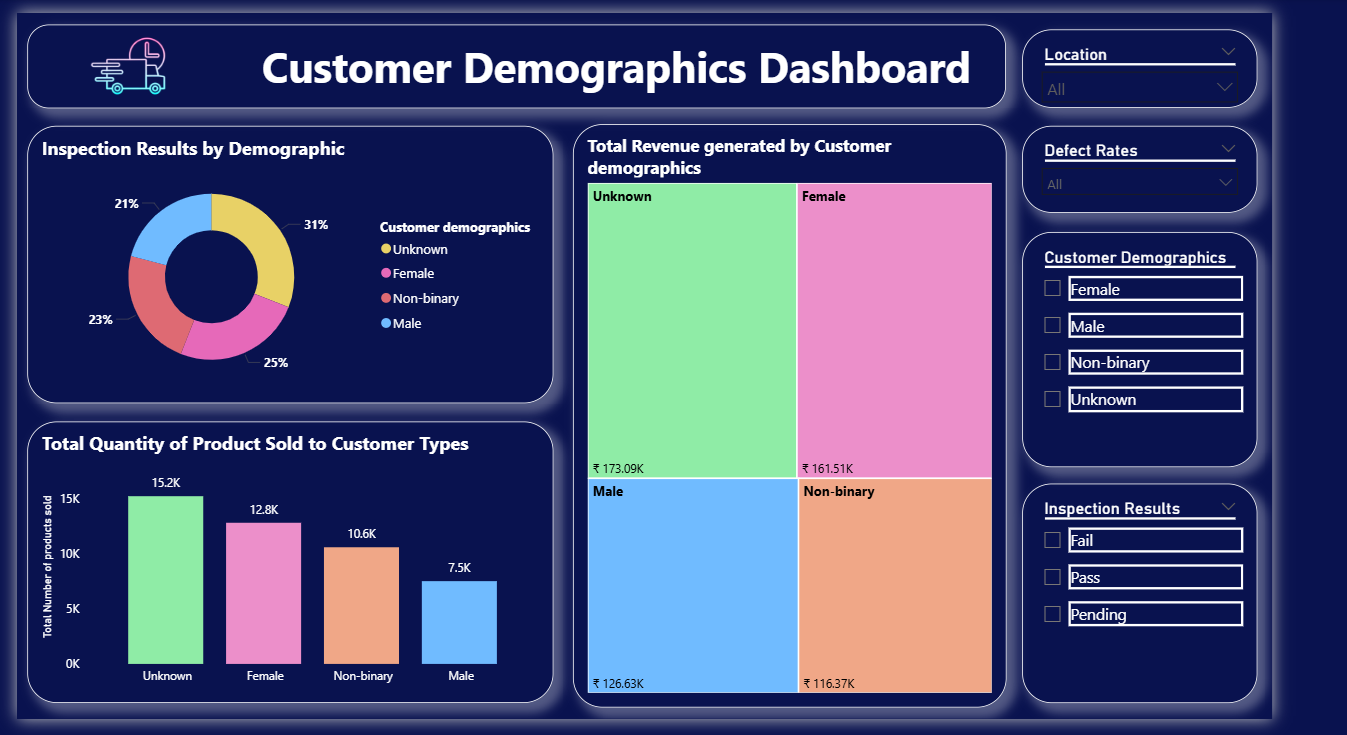

The page's visual inventory and layout, read from the dashboard file:
{"tool":"powerbi","page":{"name":"Customer Demographic Dashboard","canvas":[1280,720],"ordinal":2},"visuals":[{"type":"textbox","box":[10,11.4,998.6,85.7],"z":0},{"type":"slicer","fields":{"Values":["supply_chain_data.Customer demographics"]},"box":[1024.3,222.9,240,240],"z":1000},{"type":"image","box":[41.4,0,142.9,108.6],"z":2000},{"type":"clusteredColumnChart","title":"Total Quantity of Product Sold to Customer Types","fields":{"Category":["supply_chain_data.Customer demographics"],"Y":["Sum(supply_chain_data.Number of products sold)"]},"box":[10,417.1,537.1,287.1],"z":3000},{"type":"treemap","title":"Total Revenue generated by Customer demographics","fields":{"Values":["Sum(supply_chain_data.Revenue generated)"],"Group":["supply_chain_data.Customer demographics"]},"box":[566.2,113.8,442.5,595],"z":4000},{"type":"donutChart","title":"Inspection Results by Demographic","fields":{"Y":["CountNonNull(supply_chain_data.Inspection results)"],"Category":["supply_chain_data.Customer demographics"]},"box":[10,114.3,537.1,282.9],"z":5000},{"type":"slicer","fields":{"Values":["supply_chain_data.Inspection results"]},"box":[1024.3,480,240,224.3],"z":6000},{"type":"slicer","fields":{"Values":["supply_chain_data.Location"]},"box":[1024.3,17.1,240,80],"z":8000},{"type":"slicer","fields":{"Values":["supply_chain_data.Defect rates"]},"box":[1024.3,114.3,240,88.6],"z":9000}]}

Visuals, with their boxes on the page's 1280x720 design canvas (x1, y1, x2, y2). These are canvas units, not pixel positions in the 1347x735 screenshot, which may show the page scaled, cropped or inside an application window:
textbox: x1=10, y1=11, x2=1009, y2=97
slicer - supply_chain_data.Customer demographics: x1=1024, y1=223, x2=1264, y2=463
image: x1=41, y1=0, x2=184, y2=109
"Total Quantity of Product Sold to Customer Types" clusteredColumnChart: x1=10, y1=417, x2=547, y2=704
"Total Revenue generated by Customer demographics" treemap: x1=566, y1=114, x2=1009, y2=709
"Inspection Results by Demographic" donutChart: x1=10, y1=114, x2=547, y2=397
slicer - supply_chain_data.Inspection results: x1=1024, y1=480, x2=1264, y2=704
slicer - supply_chain_data.Location: x1=1024, y1=17, x2=1264, y2=97
slicer - supply_chain_data.Defect rates: x1=1024, y1=114, x2=1264, y2=203
